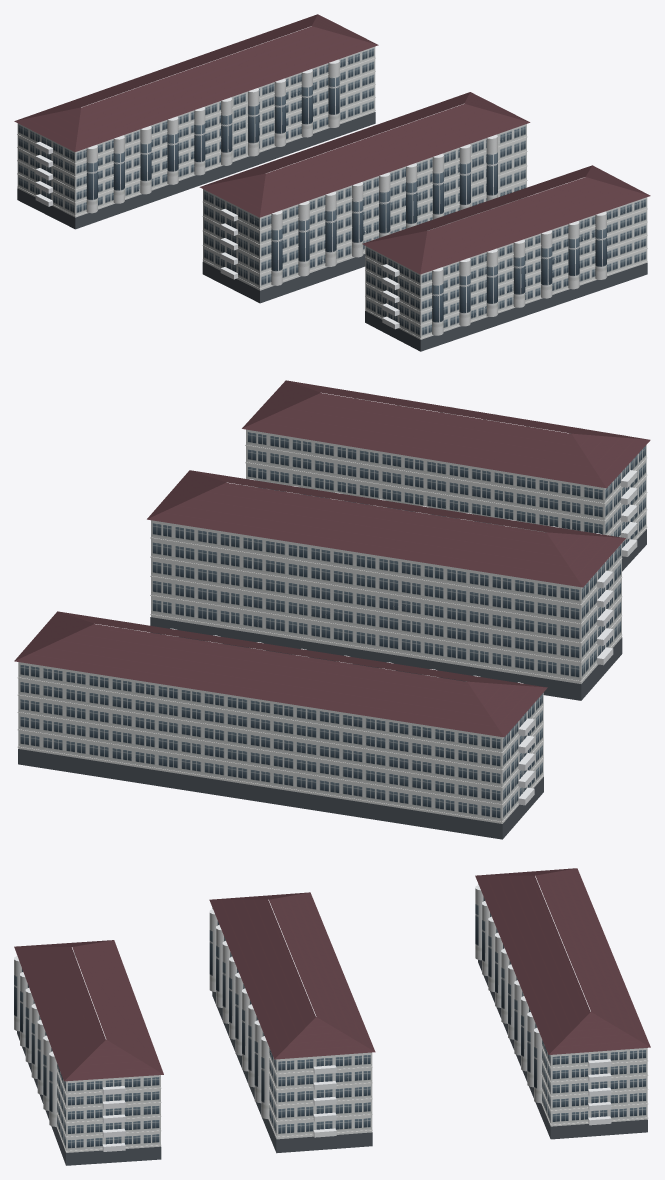
Rendered from dorm_dongyuan_h2.glb.
3 renders of one model, top to bottom at view 1: azimuth 30°, elevation 25°; view 2: azimuth 150°, elevation 25°; view 3: azimuth 270°, elevation 25°, orthographic. The views are drawn at different scales.
Parts seen in each view (by area): view 1: 862952675, 862952676, 862952677; view 2: 862952675, 862952676, 862952677; view 3: 862952675, 862952676, 862952677.
Part boxes in pixels (bbox=[...]): 862952675: bbox=[14, 14, 378, 229]; 862952676: bbox=[199, 92, 530, 303]; 862952677: bbox=[362, 165, 650, 351]; 862952675: bbox=[14, 611, 547, 839]; 862952676: bbox=[147, 470, 625, 700]; 862952677: bbox=[242, 380, 650, 571]; 862952675: bbox=[475, 868, 650, 1139]; 862952676: bbox=[209, 892, 375, 1153]; 862952677: bbox=[14, 940, 163, 1165].
Bounding box in the file's own units: 99.35 × 24.43 × 125.
Materials: 3 (2 with a texture image).
